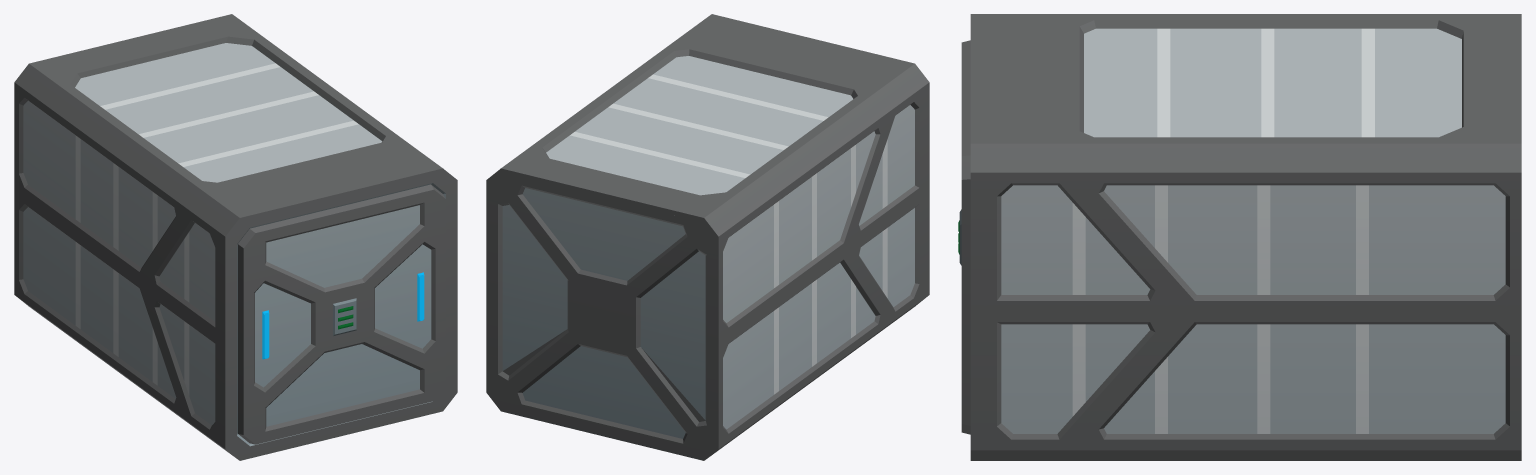
The model's file is Container_type_B_006.glb.
3 views of the same model, side by side, from view 1: azimuth 30°, elevation 25°; view 2: azimuth 150°, elevation 25°; view 3: azimuth 270°, elevation 25° (orthographic). The views are drawn at different scales.
Parts seen in each view (by area): view 1: Container_type_B_006, Container_type_B_door_007; view 2: Container_type_B_006; view 3: Container_type_B_006, Container_type_B_door_007.
Part boxes in pixels (x1,y1,x2,y2): Container_type_B_006: (14,14,457,460); Container_type_B_door_007: (237,184,445,444); Container_type_B_006: (486,14,929,460); Container_type_B_006: (970,14,1521,460); Container_type_B_door_007: (958,40,970,434).
Bounding box in the file's own units: 2.4 × 2.4 × 3.86.
2 materials, 2 textured.
